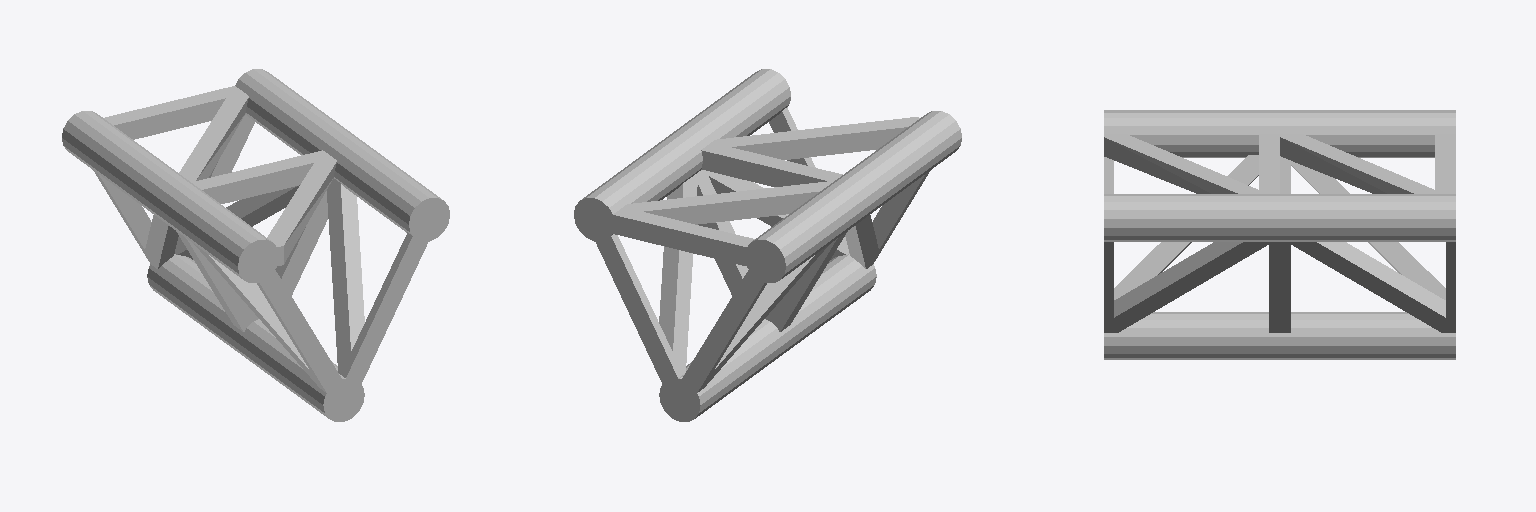
The model's file is intamin.obj.
The picture shows the model from 3 angles: view 1: azimuth 30°, elevation 25°; view 2: azimuth 150°, elevation 25°; view 3: azimuth 270°, elevation 25°; orthographic projection.
Bounding box in the file's own units: 1.15 × 1.05 × 1.65.